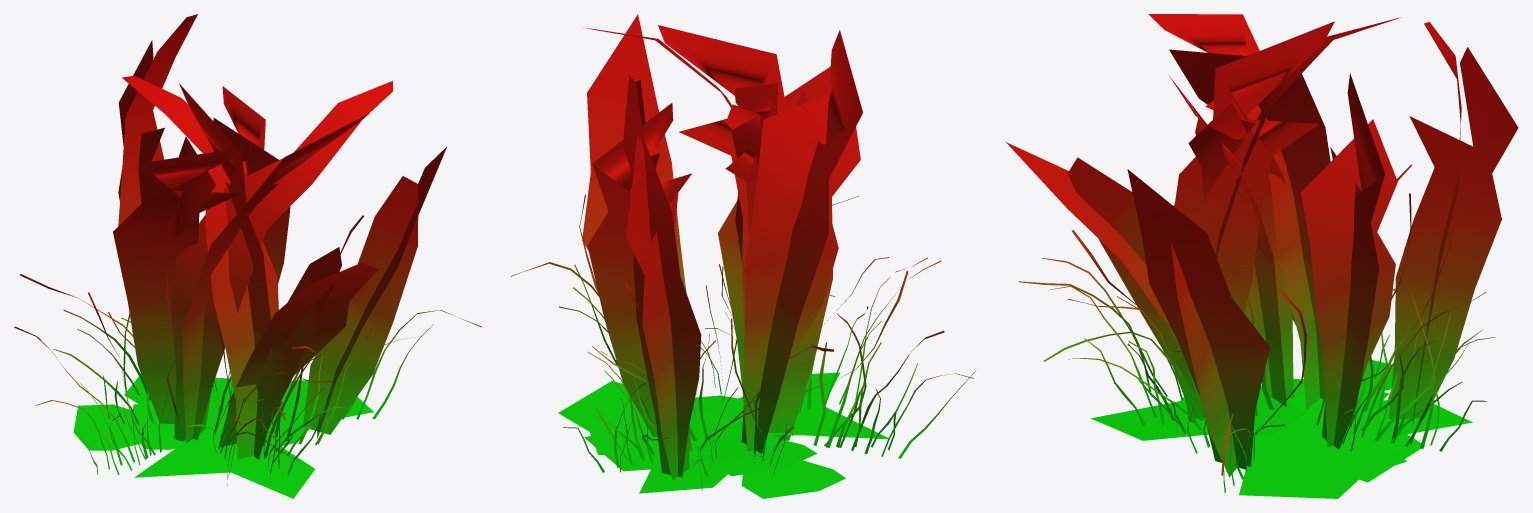
Rendered from uddmcgbia_Var14_LOD0.fbx.
3 renders of one model, left to right at view 1: azimuth 30°, elevation 25°; view 2: azimuth 150°, elevation 25°; view 3: azimuth 270°, elevation 25°, orthographic. The views are drawn at different scales.
Visible parts, largest first — view 1: _e178_Var14_LOD0; view 2: _e178_Var14_LOD0; view 3: _e178_Var14_LOD0.
Boxes of the visible parts, left/top/right/bottom form: _e178_Var14_LOD0: left=14, top=14, right=481, bottom=498; _e178_Var14_LOD0: left=511, top=14, right=975, bottom=498; _e178_Var14_LOD0: left=1006, top=14, right=1518, bottom=498.
Bounding box in the file's own units: 11.53 × 9.37 × 10.2.
